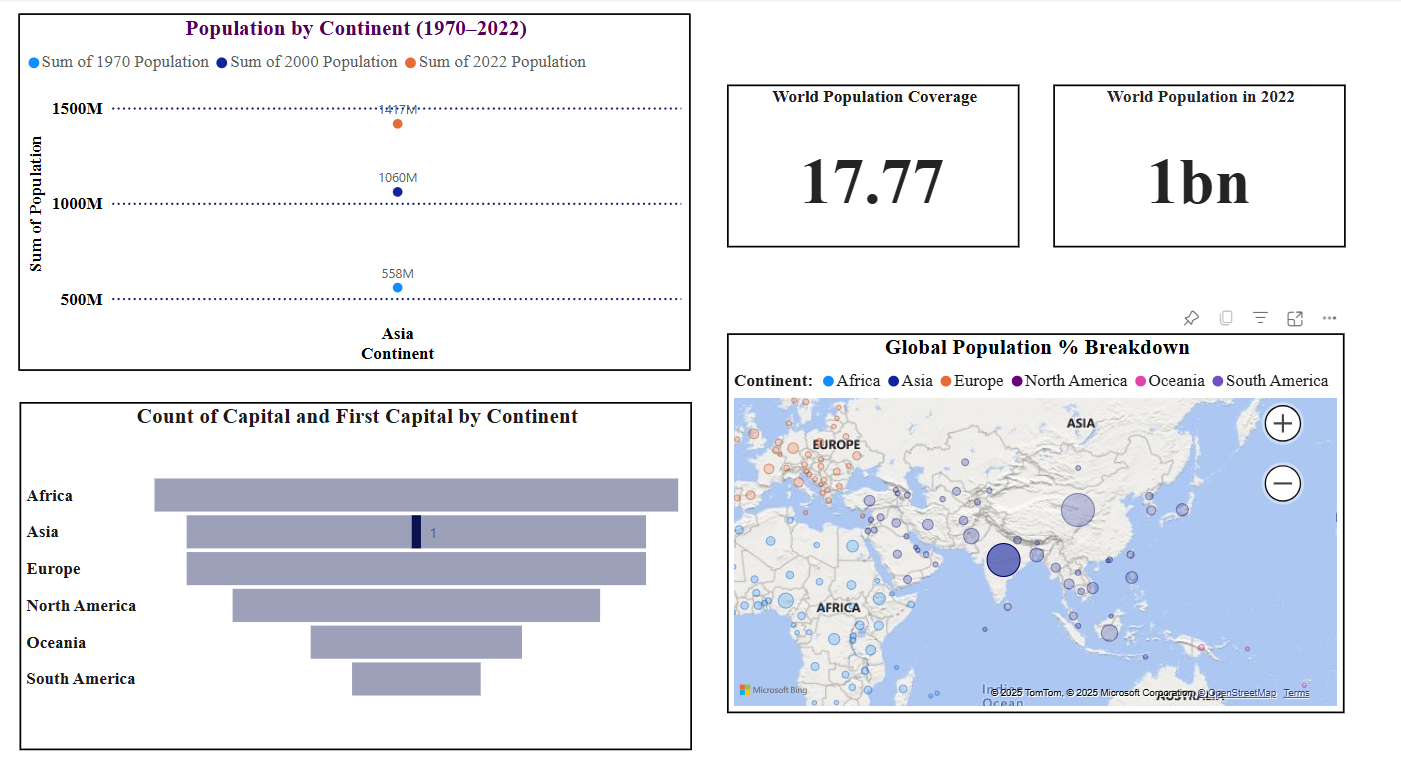

Layout of this report page (visuals, bound fields, positions):
{"tool":"powerbi","page":{"name":"Page 1","canvas":[1280,720],"ordinal":0},"visuals":[{"type":"lineChart","title":"Population by Continent (1970–2022)","fields":{"Y":["Sum(world_population.1970 Population)","Sum(world_population.2000 Population)","Sum(world_population.2022 Population)"],"Category":["world_population.Continent"]},"box":[34.3,11,627.1,333.4],"z":0},{"type":"map","title":"Global Population % Breakdown","fields":{"Category":["world_population.Country/Territory"],"Series":["world_population.Continent"],"Size":["Sum(world_population.World Population Percentage)"]},"box":[695.4,308.5,576,354.5],"z":2000},{"type":"card","title":"World Population in 2022","fields":{"Values":["Sum(world_population.2022 Population)"]},"box":[998.9,77.1,272.4,151.8],"z":3000},{"type":"card","title":"World Population Coverage","fields":{"Values":["Sum(world_population.World Population Percentage)"]},"box":[695.4,77.1,272.4,151.8],"z":4000},{"type":"funnel","fields":{"Category":["world_population.Continent"],"Y":["CountNonNull(world_population.Capital)"]},"box":[34.8,373.2,627,324.7],"z":5000}]}

Visuals, with their boxes on the page's 1280x720 design canvas (x1, y1, x2, y2). These are canvas units, not pixel positions in the 1401x758 screenshot, which may show the page scaled, cropped or inside an application window:
"Population by Continent (1970–2022)" lineChart: Rect(34, 11, 661, 344)
"Global Population % Breakdown" map: Rect(695, 308, 1271, 663)
"World Population in 2022" card: Rect(999, 77, 1271, 229)
"World Population Coverage" card: Rect(695, 77, 968, 229)
funnel - world_population.Continent x CountNonNull(world_population.Capital): Rect(35, 373, 662, 698)
